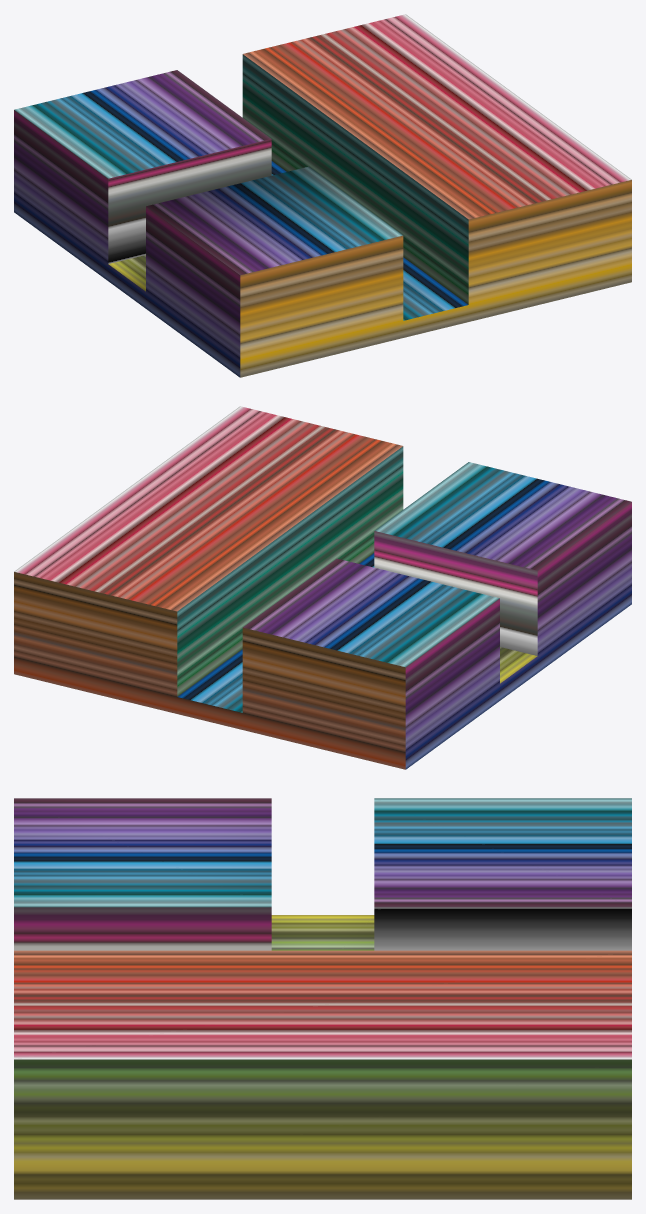
File: Left_Elbow.obj
The picture shows the model from 3 angles, top to bottom: view 1: azimuth 30°, elevation 25°; view 2: azimuth 150°, elevation 25°; view 3: azimuth 270°, elevation 25°; orthographic projection. The views are drawn at different scales.
Parts seen in each view (by area): view 1: Left-Elbow-Room-00_Left-Elbow-Room-00; view 2: Left-Elbow-Room-00_Left-Elbow-Room-00; view 3: Left-Elbow-Room-00_Left-Elbow-Room-00.
Part boxes in pixels (left/top/right/bottom): Left-Elbow-Room-00_Left-Elbow-Room-00: left=14, top=14, right=631, bottom=377; Left-Elbow-Room-00_Left-Elbow-Room-00: left=14, top=406, right=631, bottom=769; Left-Elbow-Room-00_Left-Elbow-Room-00: left=14, top=798, right=631, bottom=1199.
Size of the model in its own units: 48 by 12 by 48.
